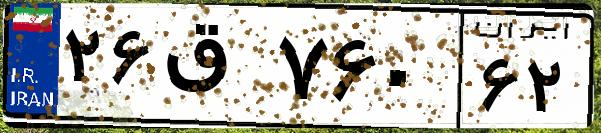0: (385, 28, 445, 110)
2: (57, 26, 110, 100), (525, 38, 570, 115)
6: (330, 28, 385, 110), (475, 38, 525, 113), (110, 28, 158, 98)
7: (270, 28, 330, 110)
ق: (158, 20, 270, 120)
